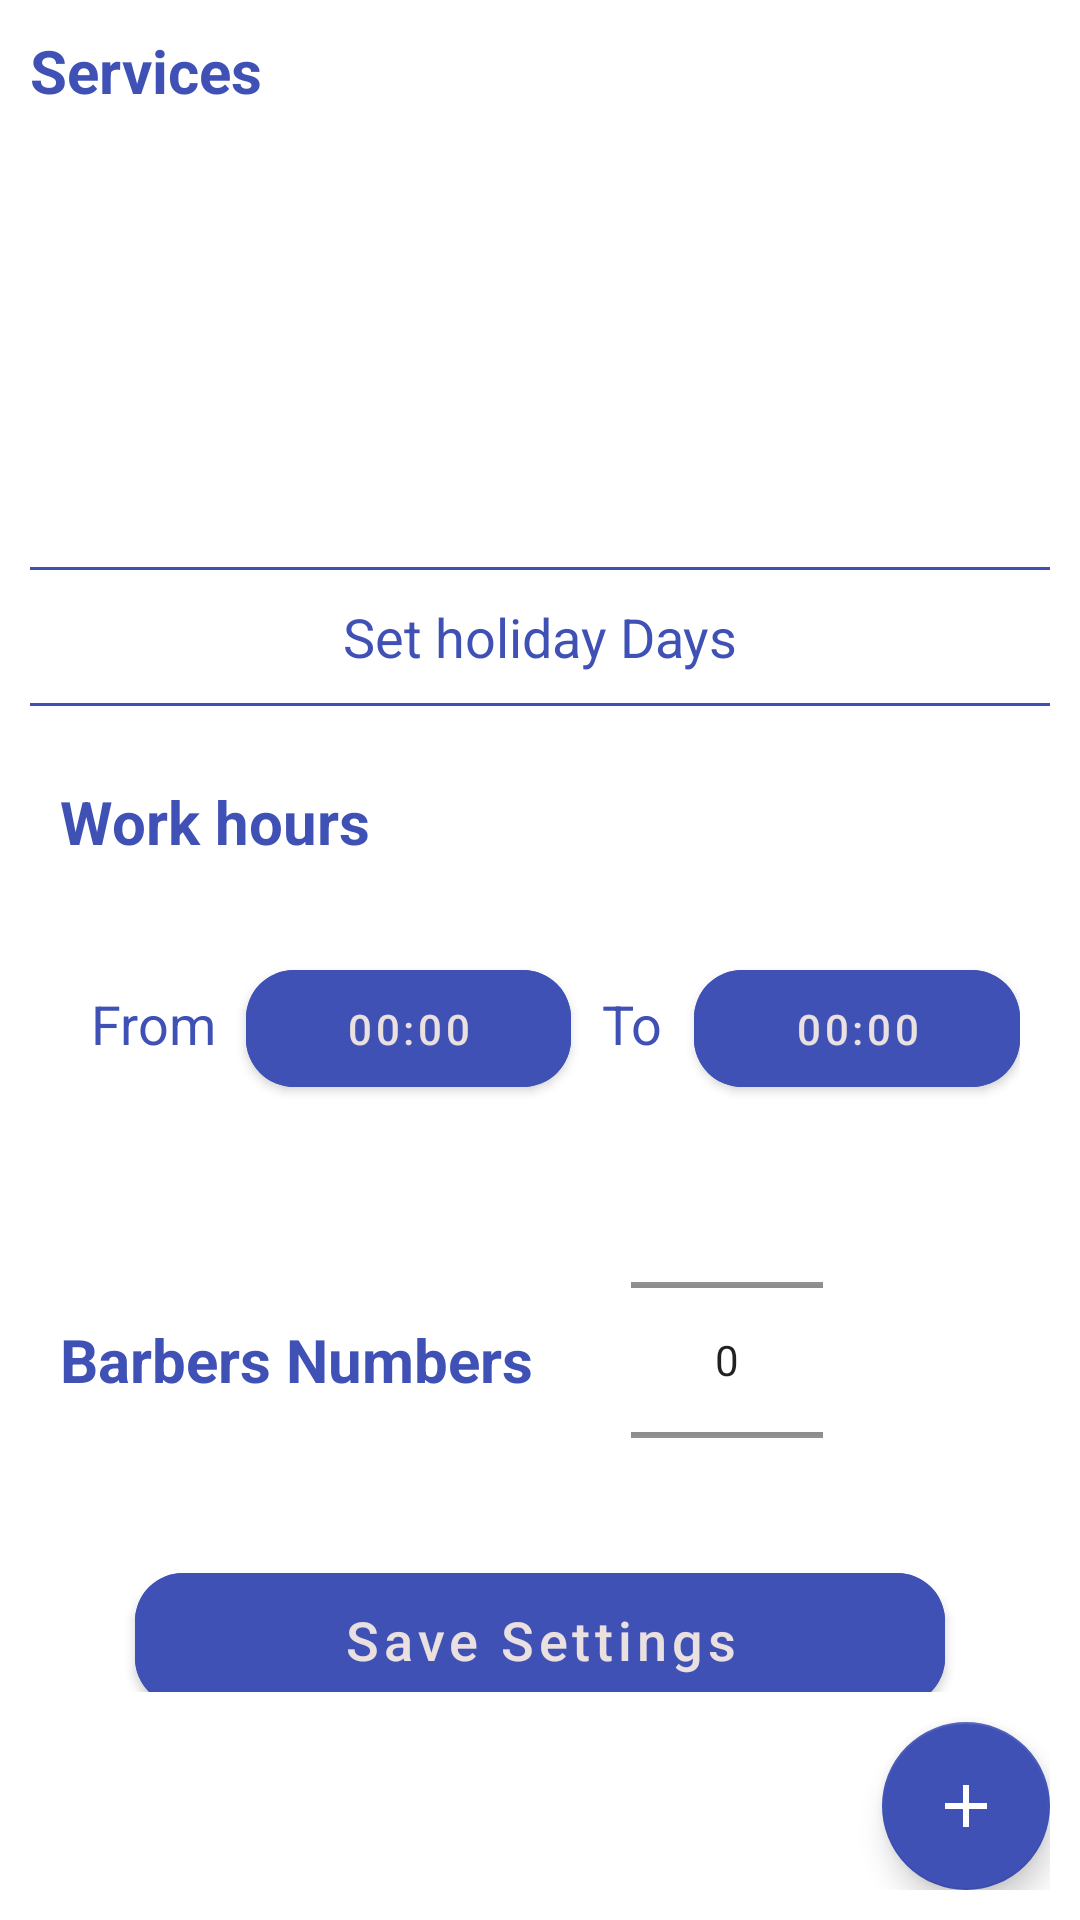

Screen size 1080px x 1920px. Icon name, then its box in pixels as (x1, y1, x2, y2):
add: (882, 1722, 1050, 1890)
